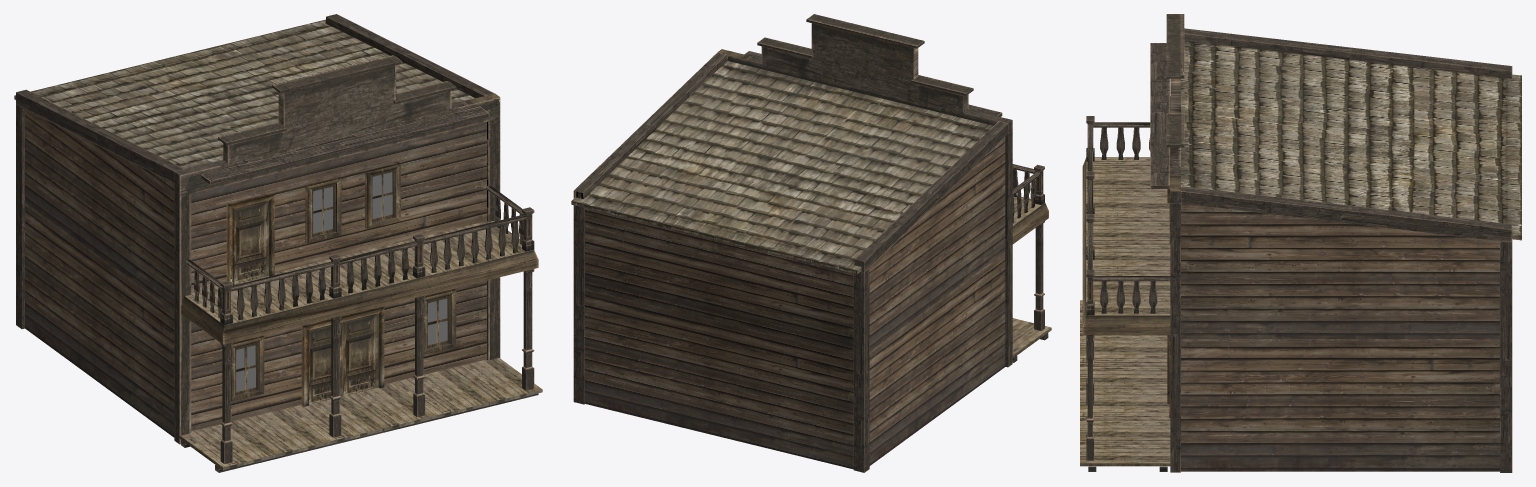
The model's file is Building1_LOD0.FBX.
3 renders of one model, left to right at view 1: azimuth 30°, elevation 25°; view 2: azimuth 150°, elevation 25°; view 3: azimuth 270°, elevation 25°, orthographic. The views are drawn at different scales.
Visible parts, largest first — view 1: Hull, Quader003, glass; view 2: Hull, Quader003; view 3: Hull, Quader003.
Part boxes in pixels (x1=…): Hull: x1=14, y1=19, x2=486, y2=437; Quader003: x1=16, y1=14, x2=542, y2=472; glass: x1=236, y1=172, x2=447, y2=391; Hull: x1=571, y1=61, x2=1005, y2=469; Quader003: x1=573, y1=14, x2=1051, y2=472; Hull: x1=1181, y1=40, x2=1521, y2=471; Quader003: x1=1080, y1=14, x2=1512, y2=472.
Size of the model in its own units: 335 by 331 by 383.
